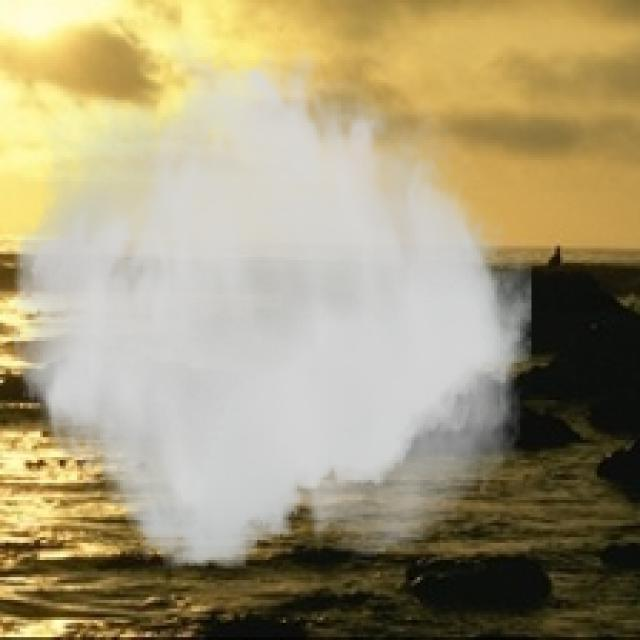Smoke: (6, 29, 532, 568)
